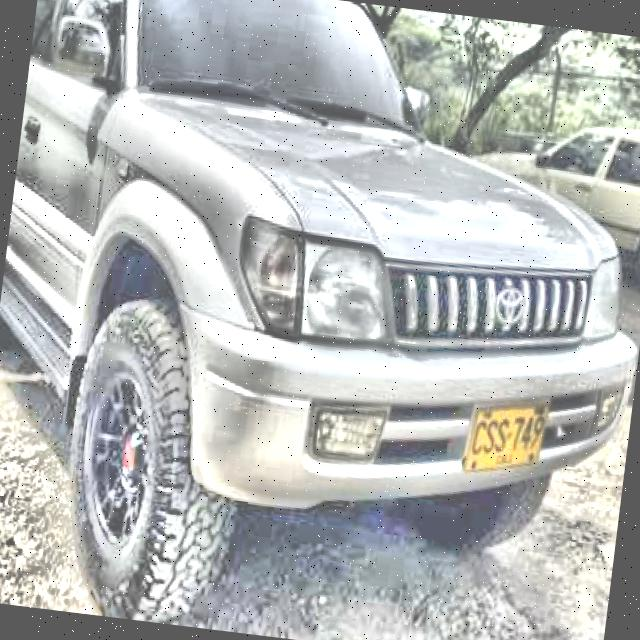4: (518, 416, 535, 451)
7: (511, 416, 527, 452)
9: (530, 416, 546, 451)
C: (471, 418, 487, 457)
S: (493, 418, 512, 454), (482, 419, 499, 453)
